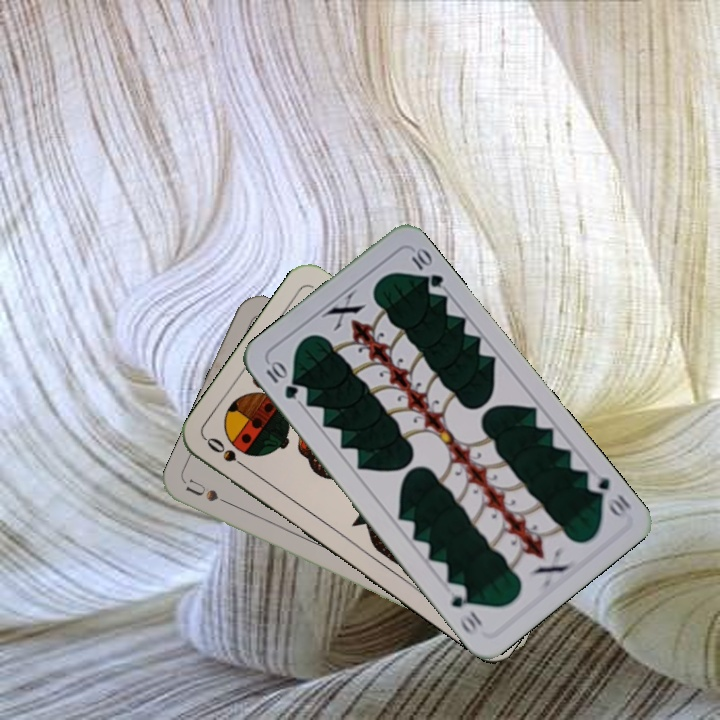G10: (582, 467, 634, 520), (262, 357, 301, 402)
SO: (202, 433, 254, 474)
SU: (182, 475, 240, 511)
